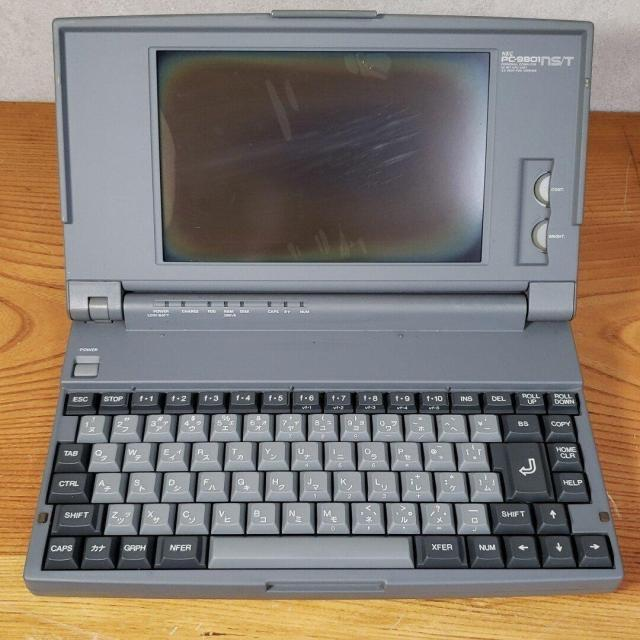keyboard: (27, 383, 625, 585)
